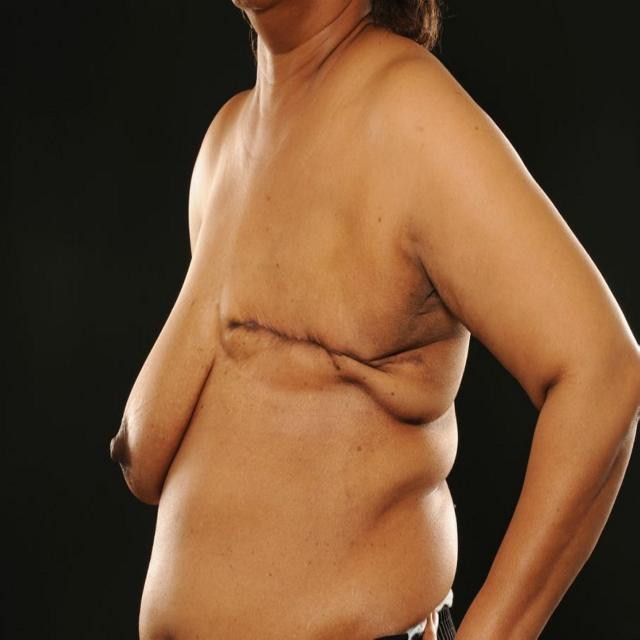wound: (216, 303, 442, 400)
